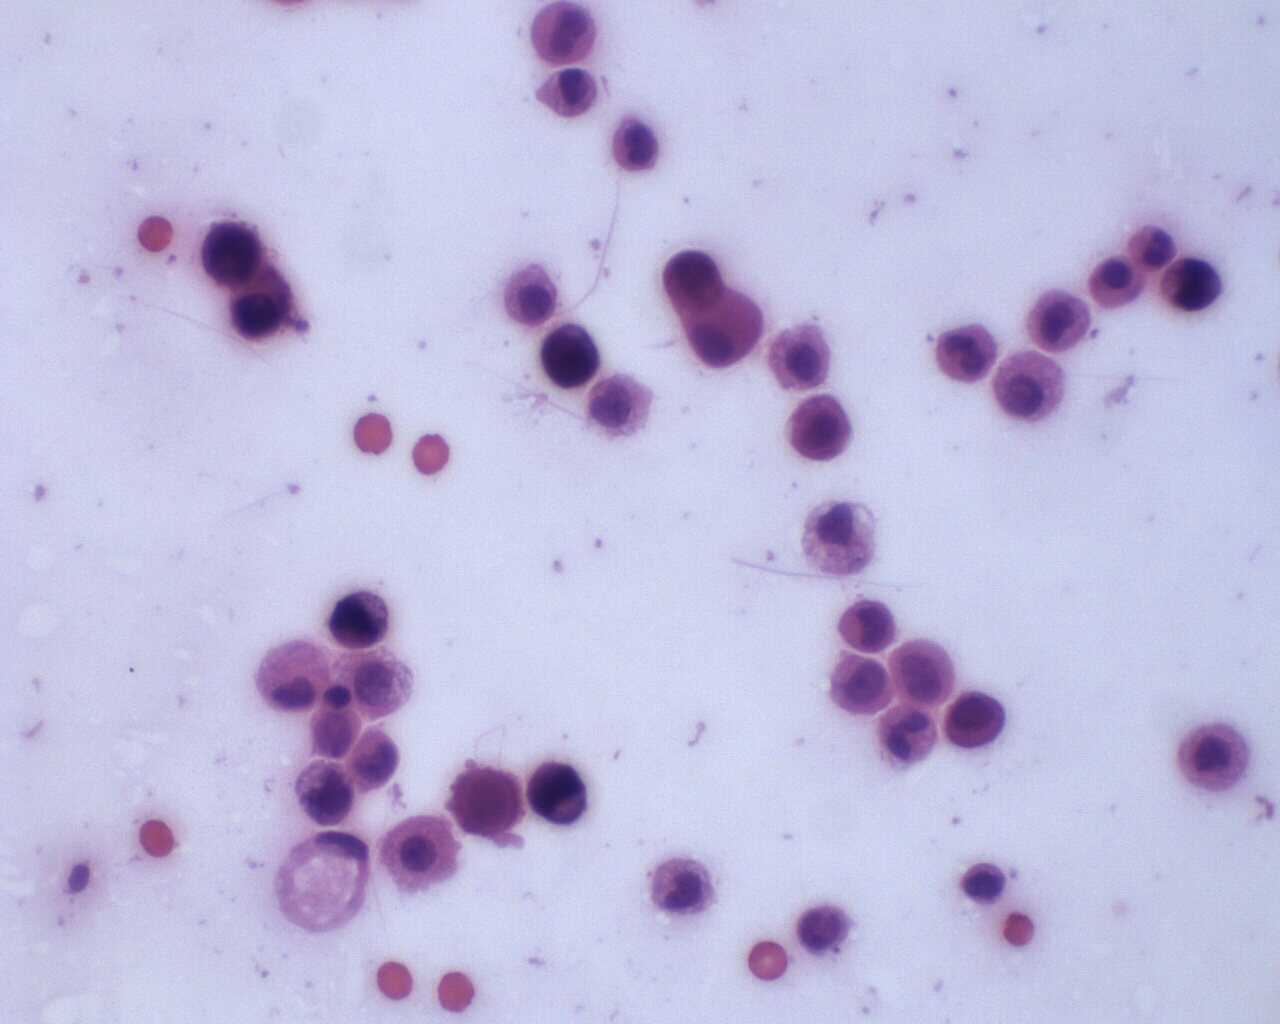ab: (446, 758, 527, 843), (195, 214, 280, 287), (227, 273, 296, 347), (786, 391, 851, 466), (323, 583, 391, 652), (526, 760, 594, 829), (829, 651, 894, 718), (539, 320, 604, 388), (661, 249, 727, 315), (294, 758, 355, 828), (942, 686, 1005, 753), (1163, 254, 1224, 313), (304, 704, 366, 761)
histo: (271, 829, 369, 936)
meso: (378, 813, 465, 897), (251, 633, 331, 712), (994, 346, 1069, 425), (765, 318, 839, 396), (499, 261, 562, 329), (1089, 253, 1147, 311)
